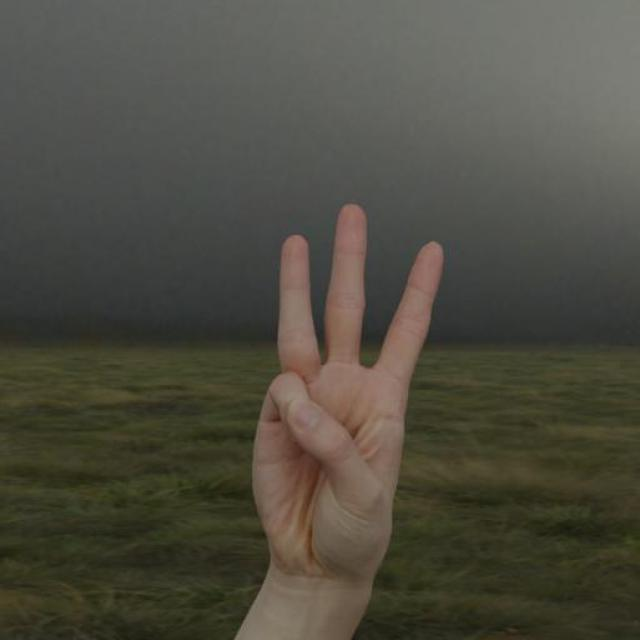W: (247, 192, 449, 598)
